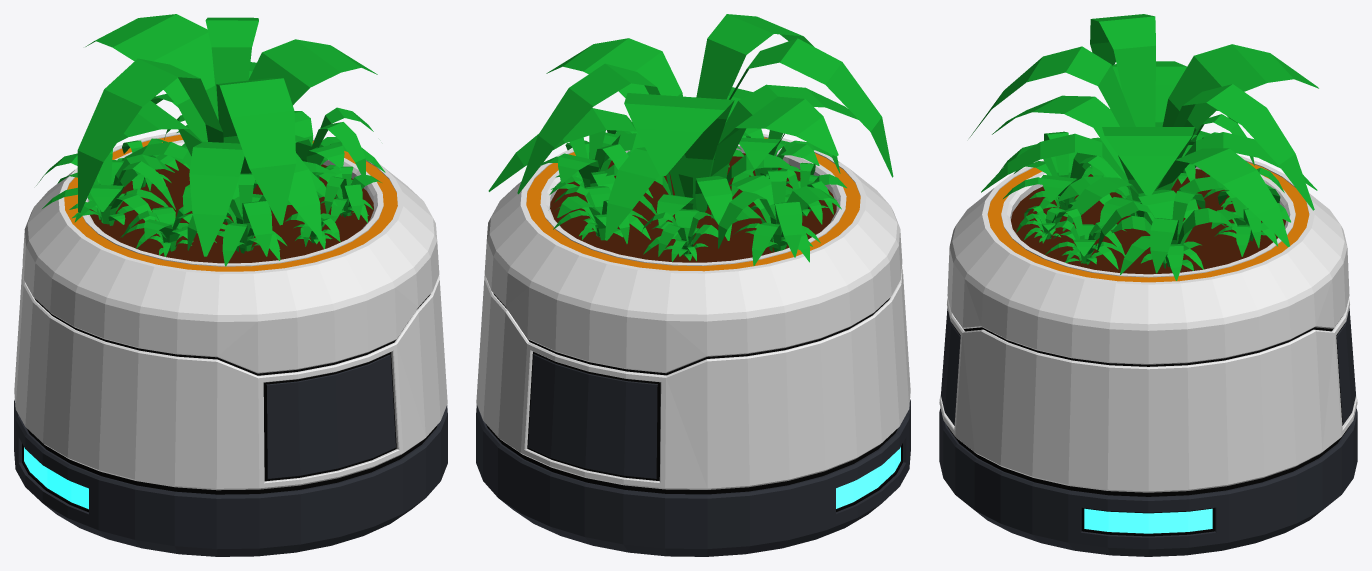
File: SM_Cylindrical_Floor_Planter.fbx
3 views of the same model, side by side, from view 1: azimuth 30°, elevation 25°; view 2: azimuth 150°, elevation 25°; view 3: azimuth 270°, elevation 25° (orthographic). The views are drawn at different scales.
Parts seen in each view (by area): view 1: SM_Cylindrical_Floor_Planter; view 2: SM_Cylindrical_Floor_Planter; view 3: SM_Cylindrical_Floor_Planter.
Part boxes in pixels (x1,y1,x2,y2): SM_Cylindrical_Floor_Planter: [14, 14, 447, 556]; SM_Cylindrical_Floor_Planter: [476, 14, 910, 556]; SM_Cylindrical_Floor_Planter: [939, 14, 1357, 556].
Bounding box in the file's own units: 46.47 × 51.07 × 46.47.
